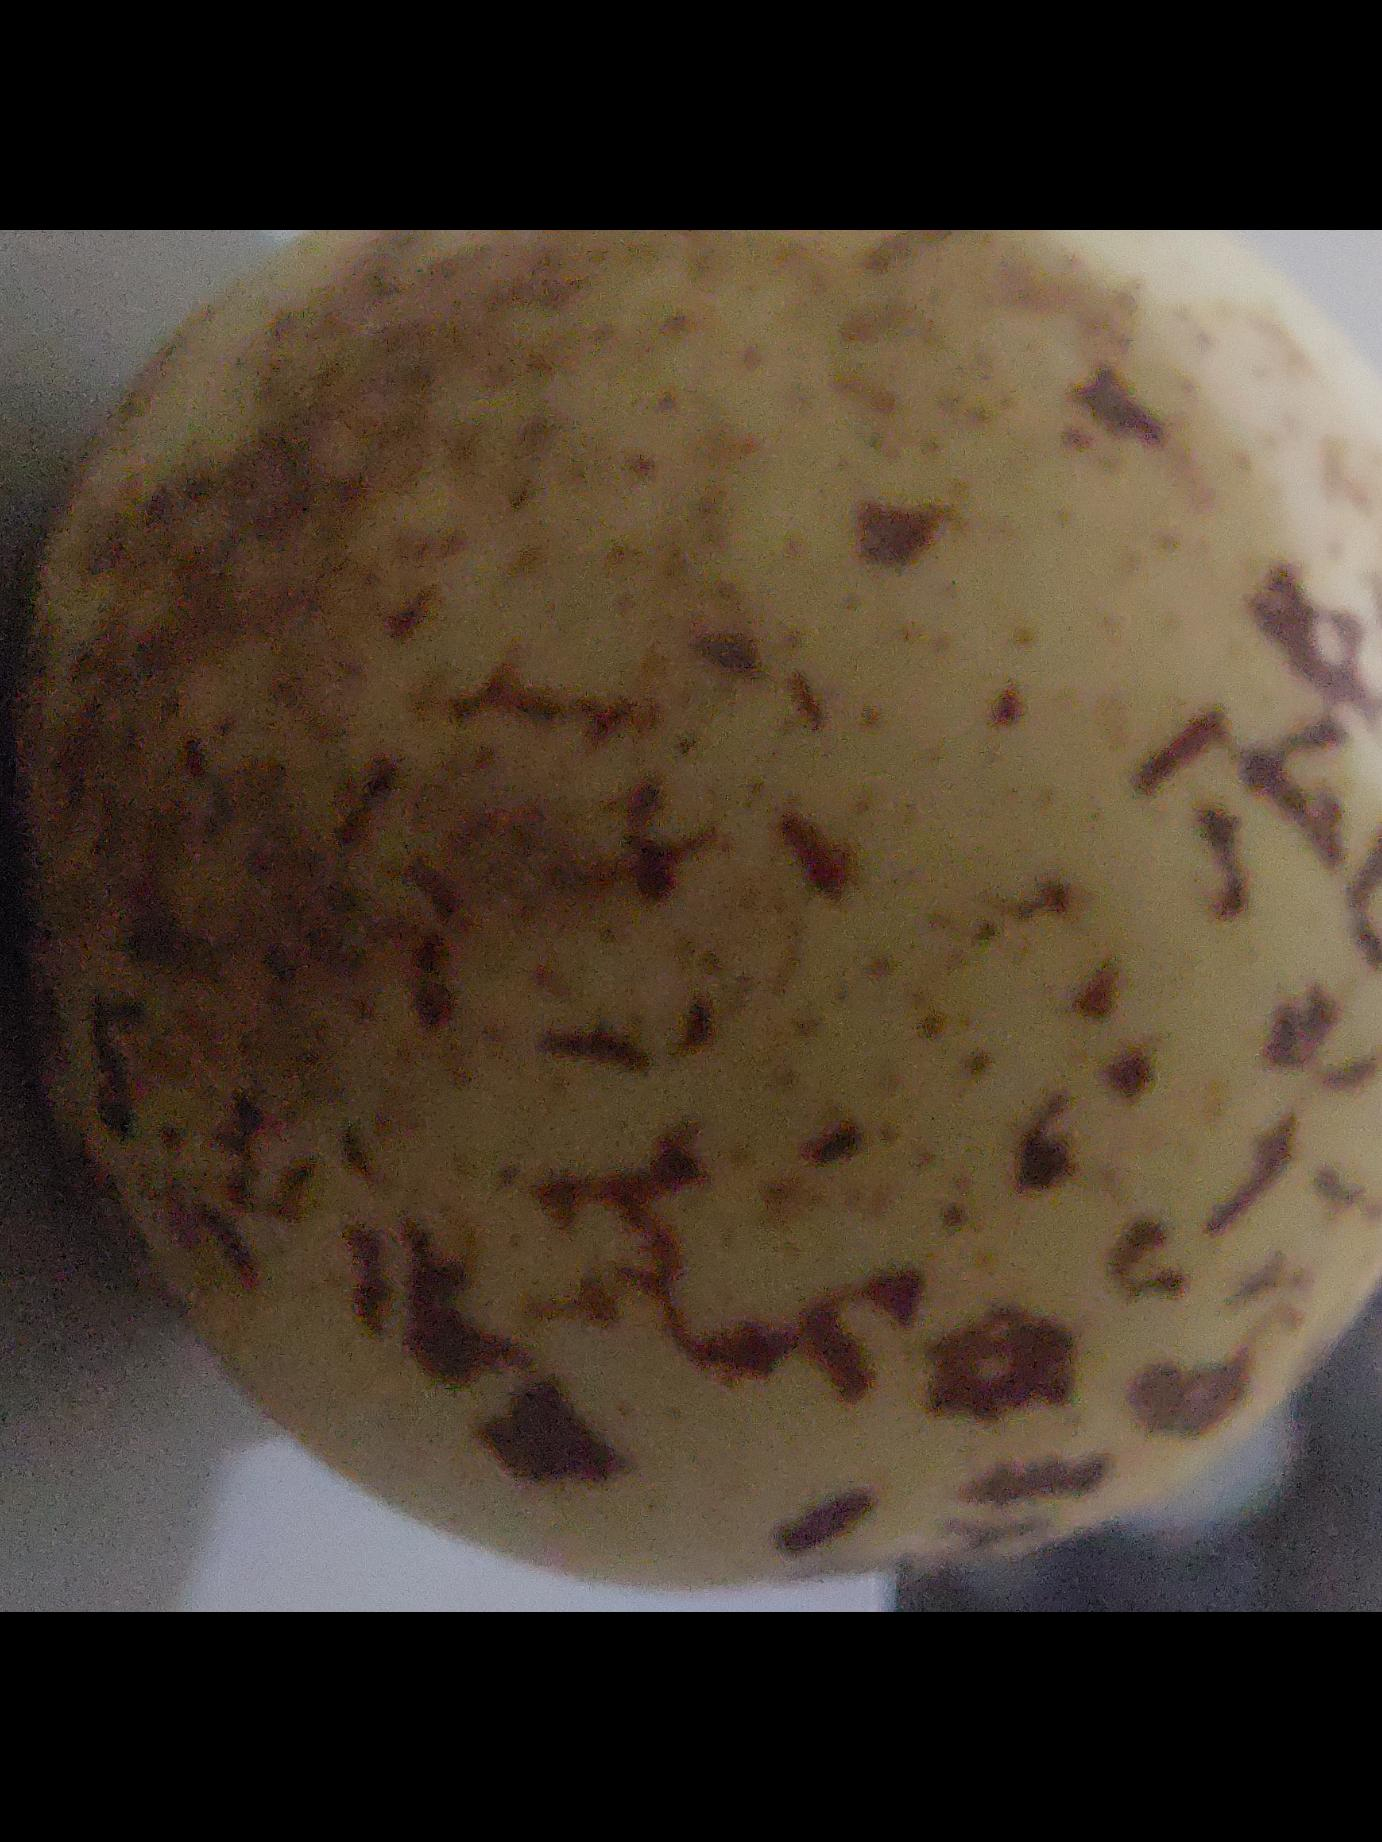Bad Pear: (20, 229, 1382, 1589)
